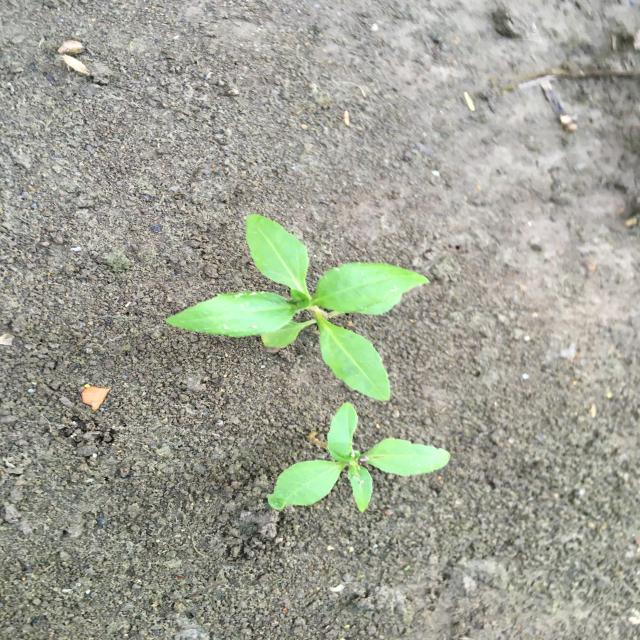Eclipta: (164, 212, 435, 405), (267, 398, 453, 514)
